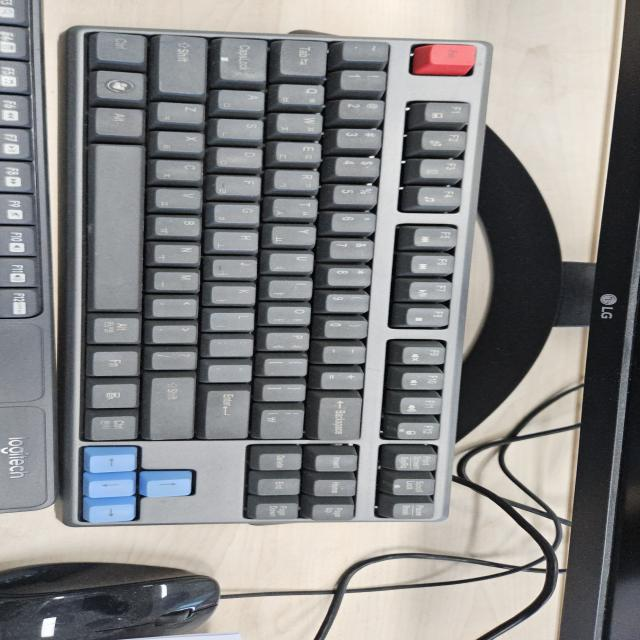Keyboard: (36, 16, 492, 528)
Mouse: (1, 560, 223, 638)
